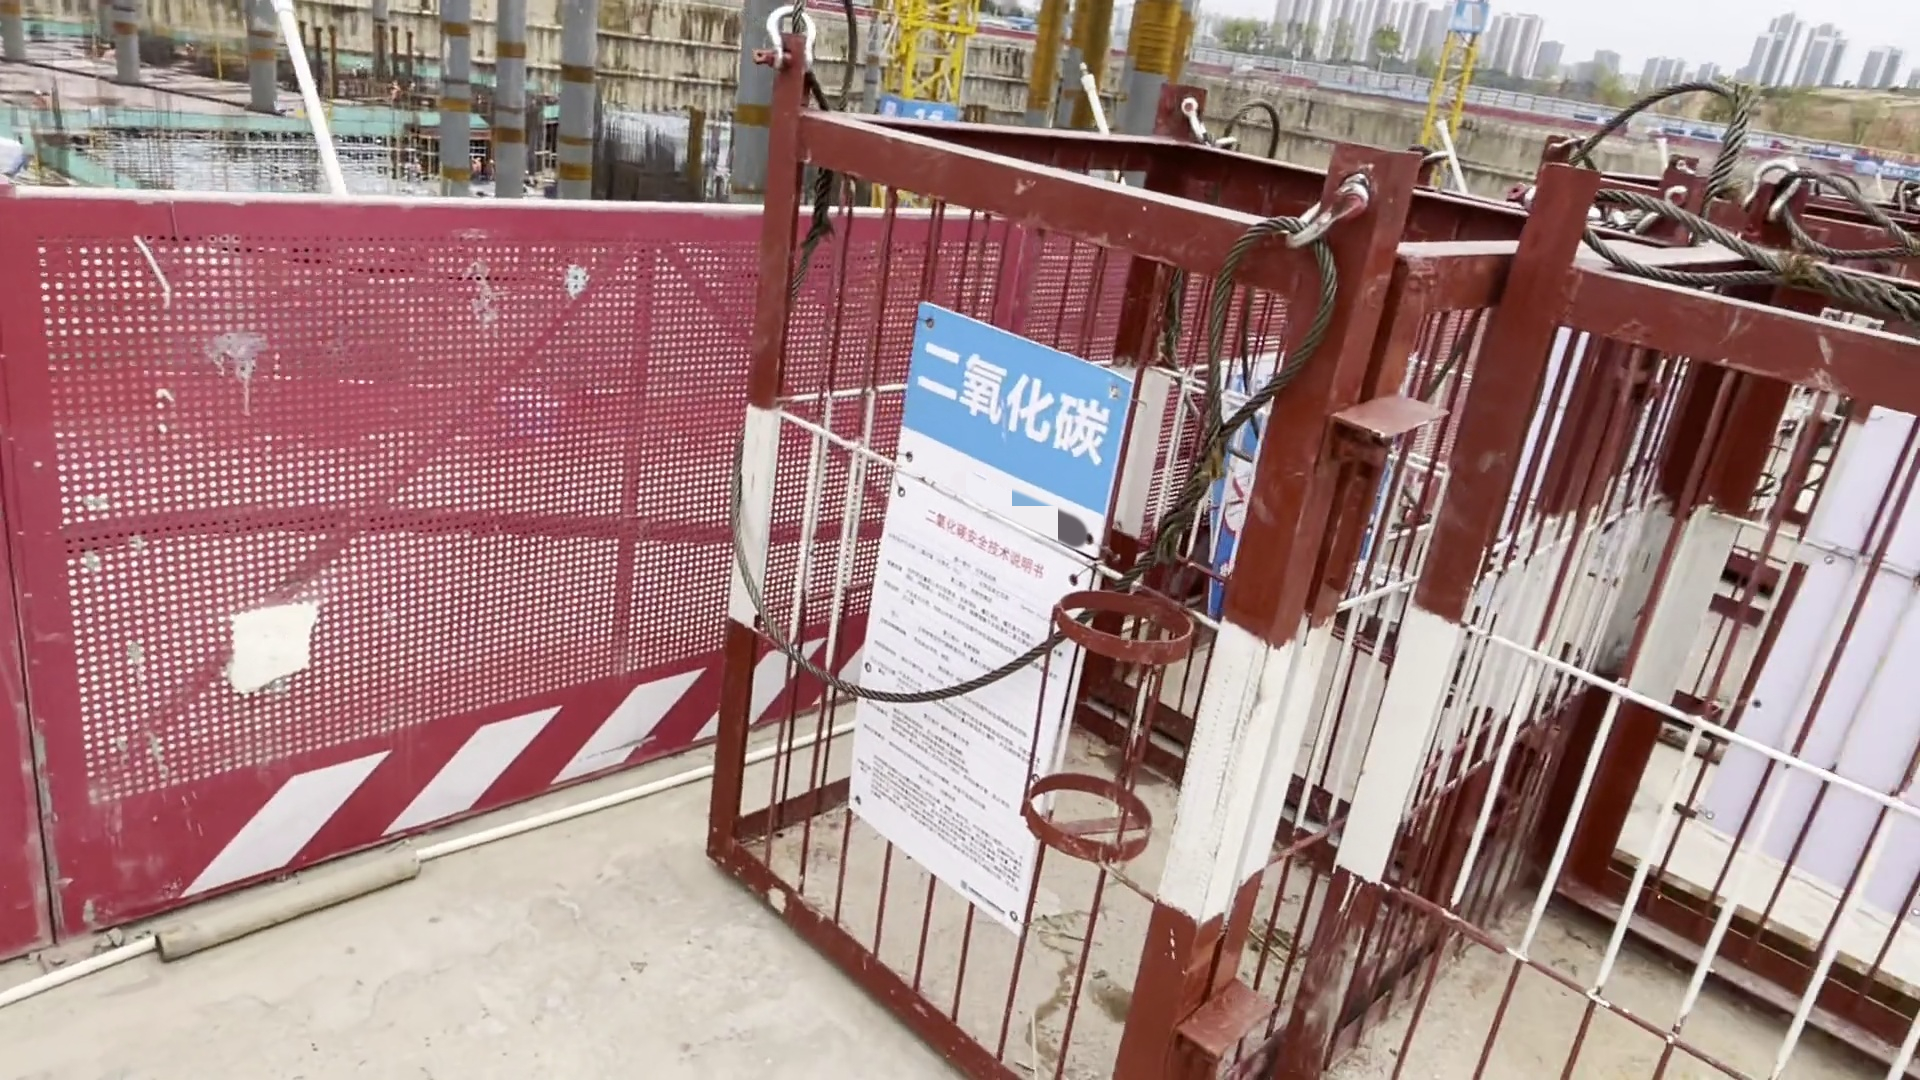fence: (11, 181, 1156, 865)
slogan: (833, 328, 1100, 885)
